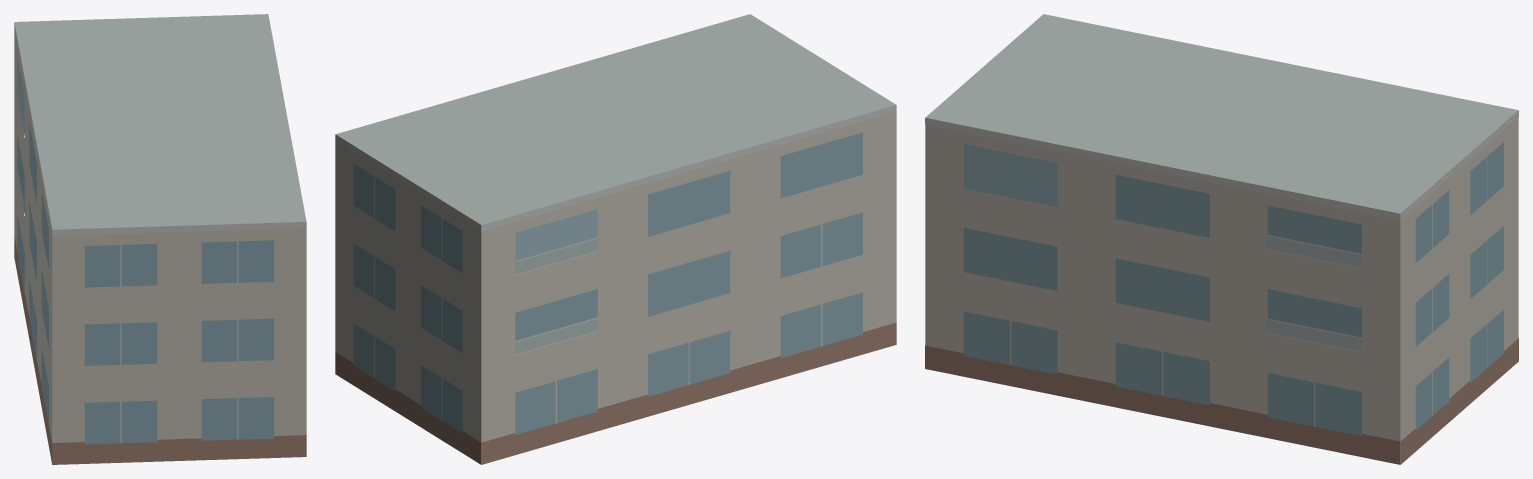
The model's file is survey-upis-32697214.glb.
3 views of the same model, side by side, from view 1: azimuth 30°, elevation 25°; view 2: azimuth 150°, elevation 25°; view 3: azimuth 270°, elevation 25° (orthographic). The views are drawn at different scales.
Visible parts, largest first — view 1: survey-upis-32697214.tmp; view 2: survey-upis-32697214.tmp; view 3: survey-upis-32697214.tmp.
Boxes of the visible parts, x1,y1,x2,y2 form: survey-upis-32697214.tmp: [14, 14, 306, 464]; survey-upis-32697214.tmp: [335, 14, 896, 464]; survey-upis-32697214.tmp: [925, 14, 1518, 464].
Size of the model in its own units: 15.61 by 9.15 by 19.61.
